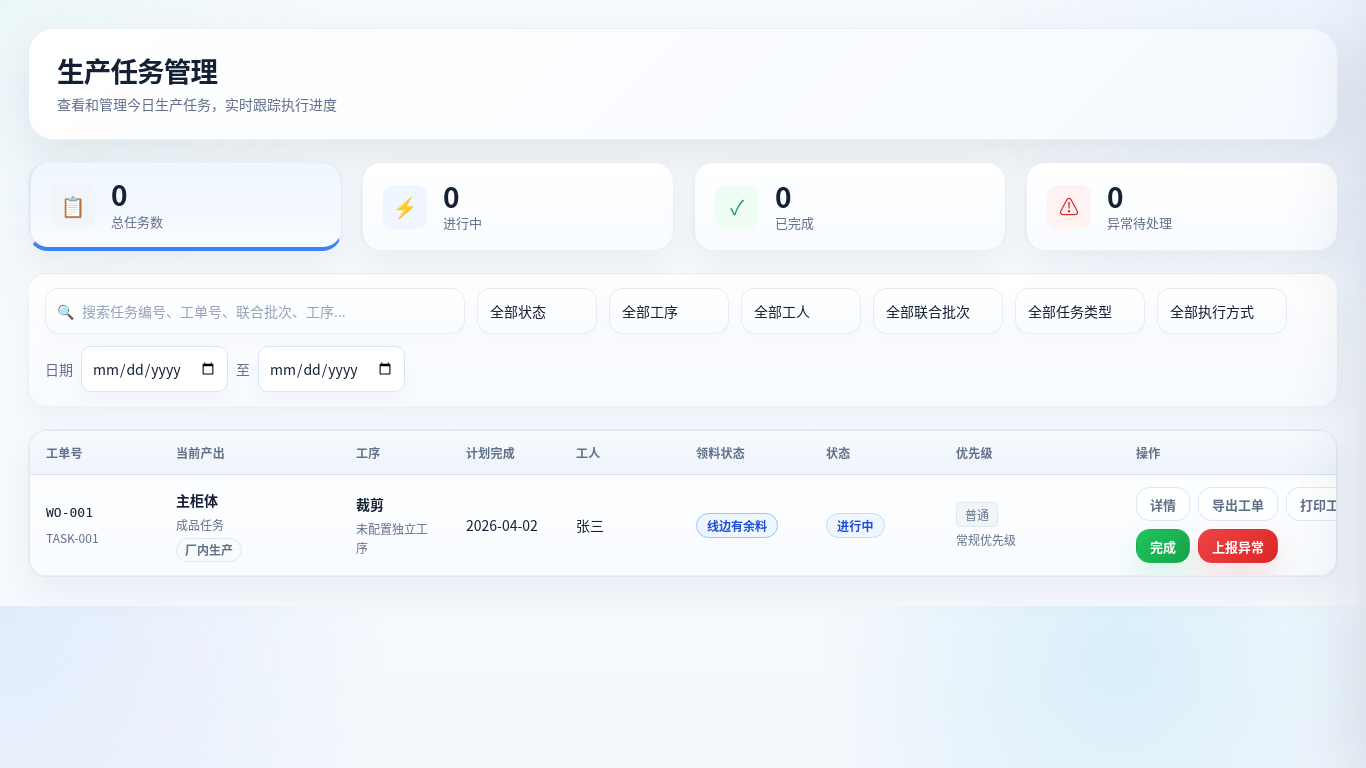
Test: TaskPage › opens task drawer and renders dependency, material trace and wage sections
This screenshot has width=1366, height=768.
Click the button "详情" at (1163, 504), box [1136,487,1190,521]
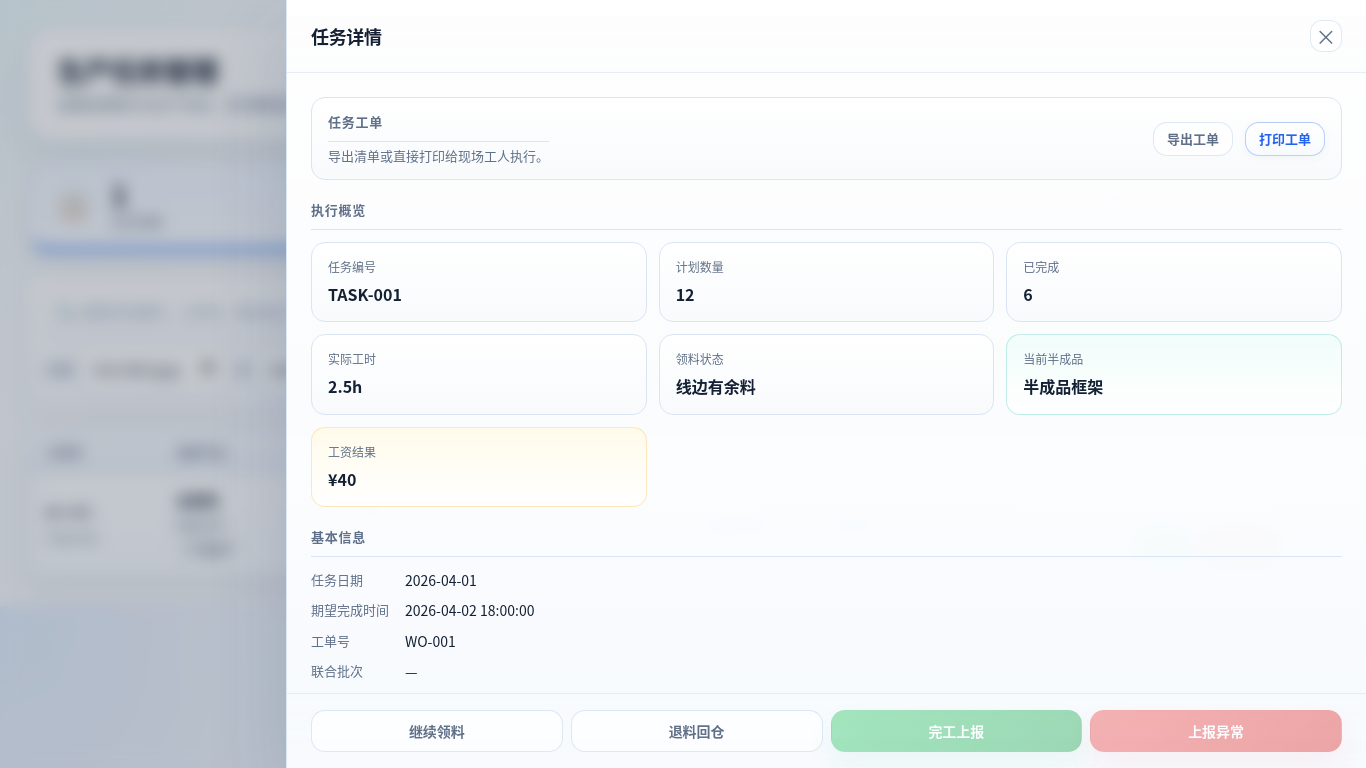
Now the text "期望完成时间" is shown, box [311,599,389,622]
Now the text "半成品框架" is shown, box [1023,374,1103,398]
Now the button "继续领料" is shown, box [311,710,563,752]
